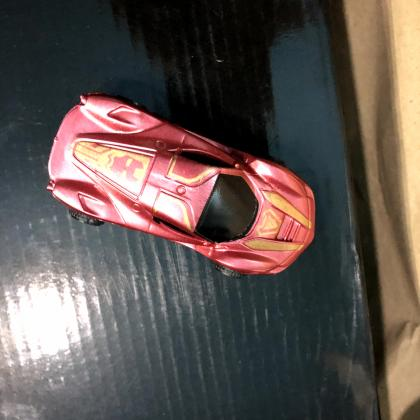Car: (46, 91, 318, 280)
